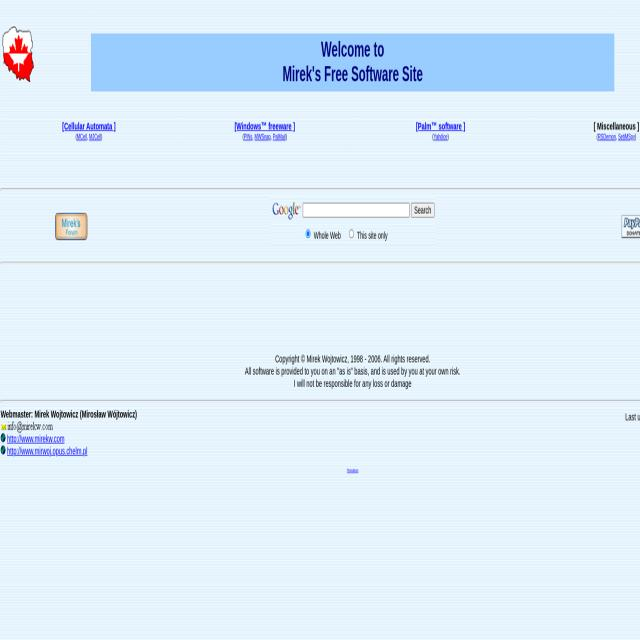button: (1, 25, 33, 82), (54, 212, 87, 238), (0, 418, 53, 432), (270, 197, 300, 221), (410, 202, 434, 218)
field: (302, 202, 409, 218), (348, 228, 354, 238), (306, 228, 310, 238)
